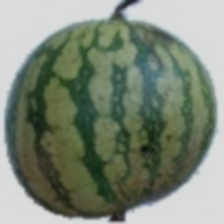watermelon: (25, 54, 180, 205)
